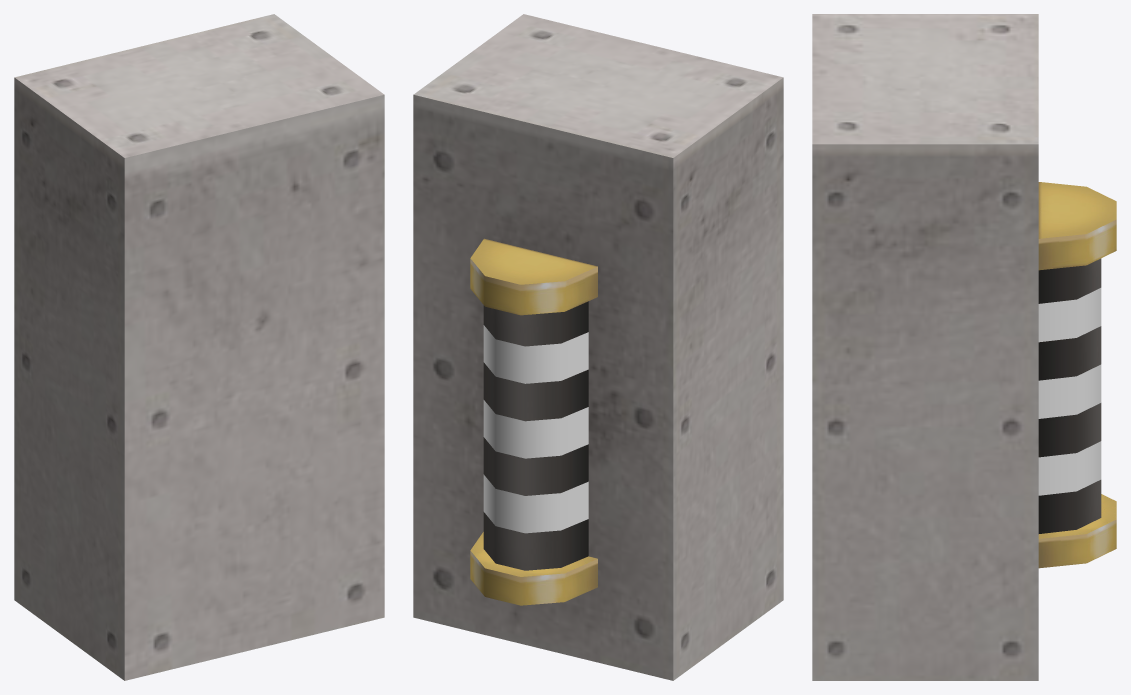
Rendered from wall01.fbx.
3 views of the same model, side by side, from view 1: azimuth 30°, elevation 25°; view 2: azimuth 150°, elevation 25°; view 3: azimuth 270°, elevation 25° (orthographic). The views are drawn at different scales.
Visible parts, largest first — view 1: group7_pPlane11; view 2: group7_pPlane11; view 3: group7_pPlane11.
Part boxes in pixels (bbox=[...]): group7_pPlane11: bbox=[14, 14, 384, 680]; group7_pPlane11: bbox=[413, 14, 783, 680]; group7_pPlane11: bbox=[812, 14, 1116, 680].
Size of the model in its own units: 0.7973 by 1.53 by 0.7882.
